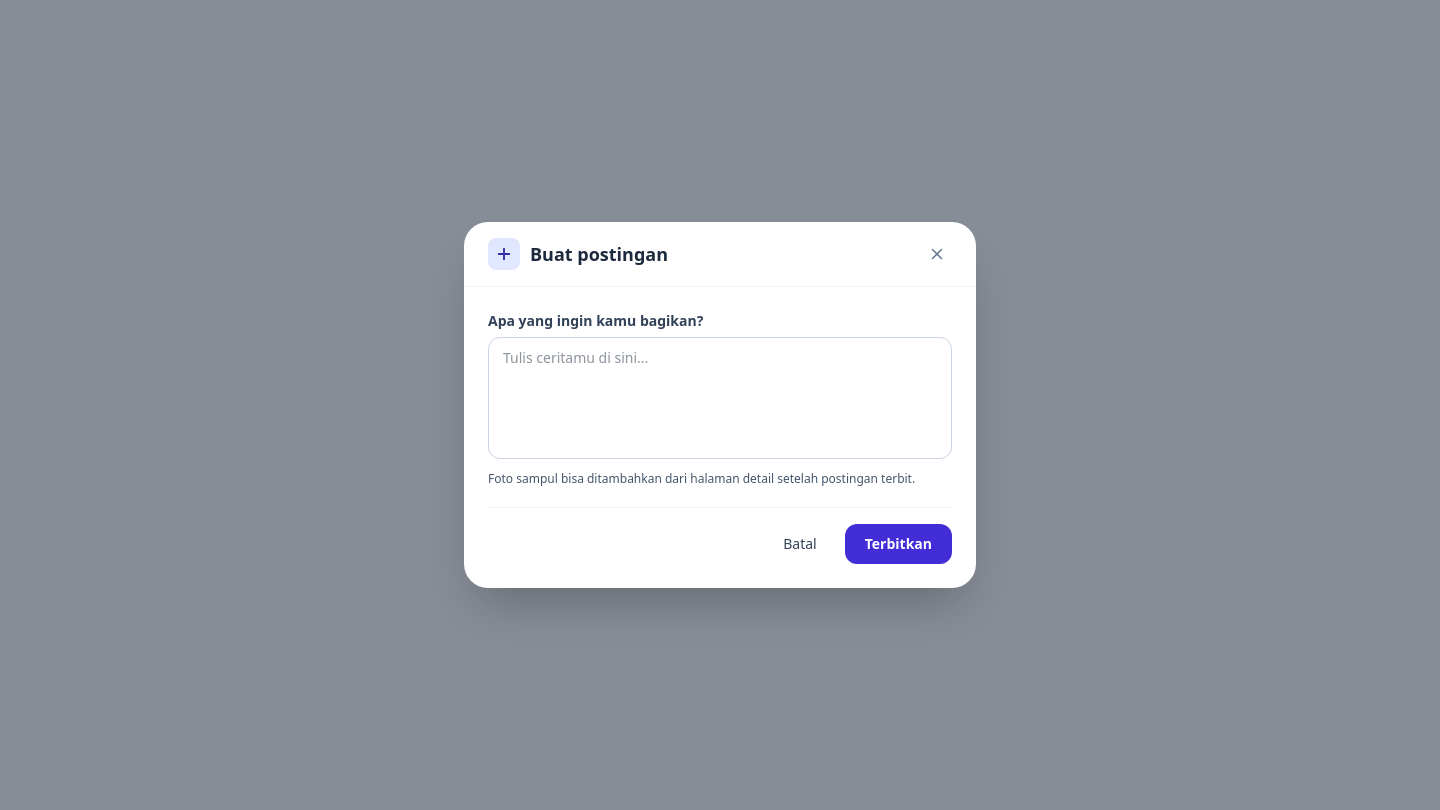
Test: AddModal › should disable the buttons and show progress while publishing
Step 1. Type "Halo" into the text box with test id "add-description-input" → (720, 398), box [488, 337, 952, 459]
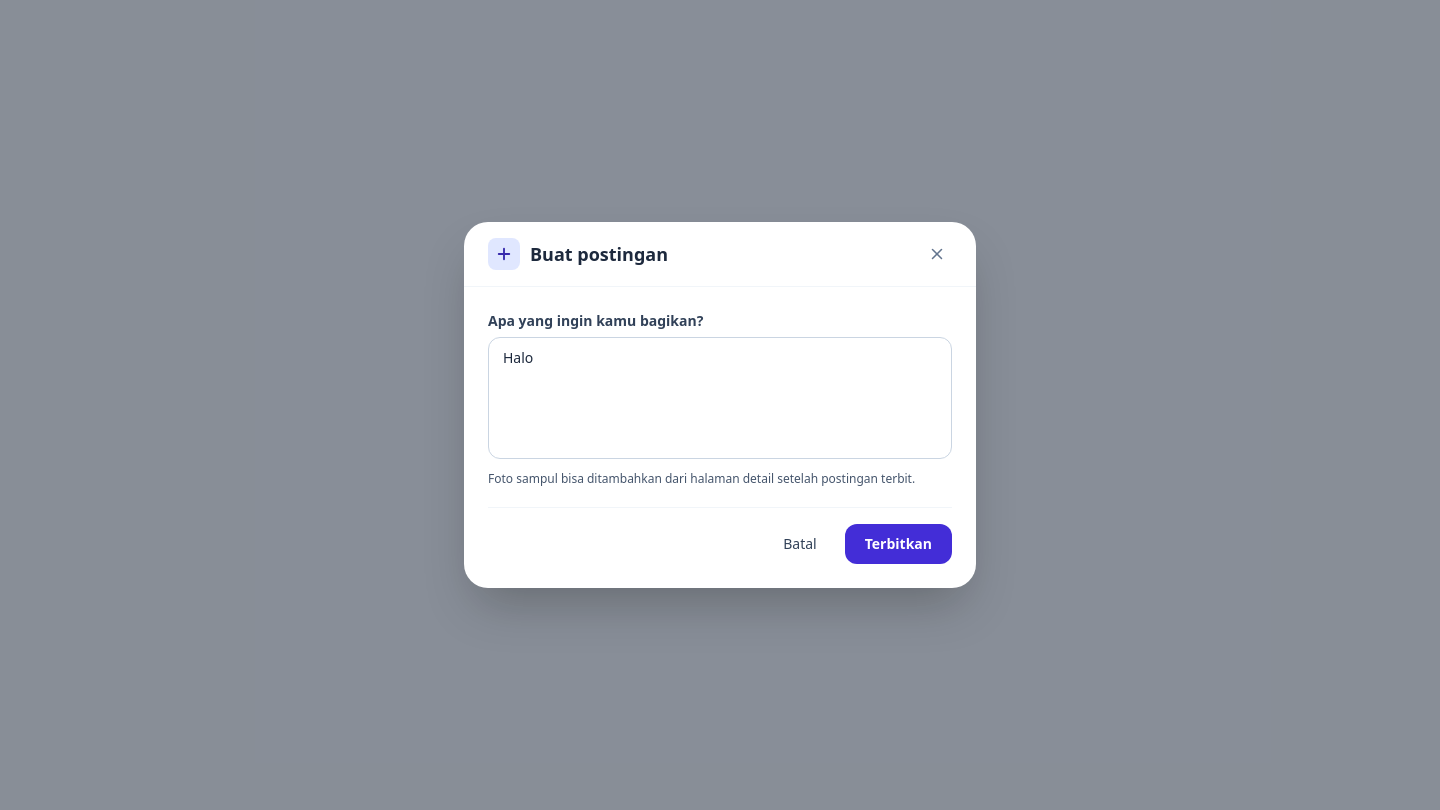
Step 2. Submit the form with test id "add-description-input", box [464, 287, 976, 588]
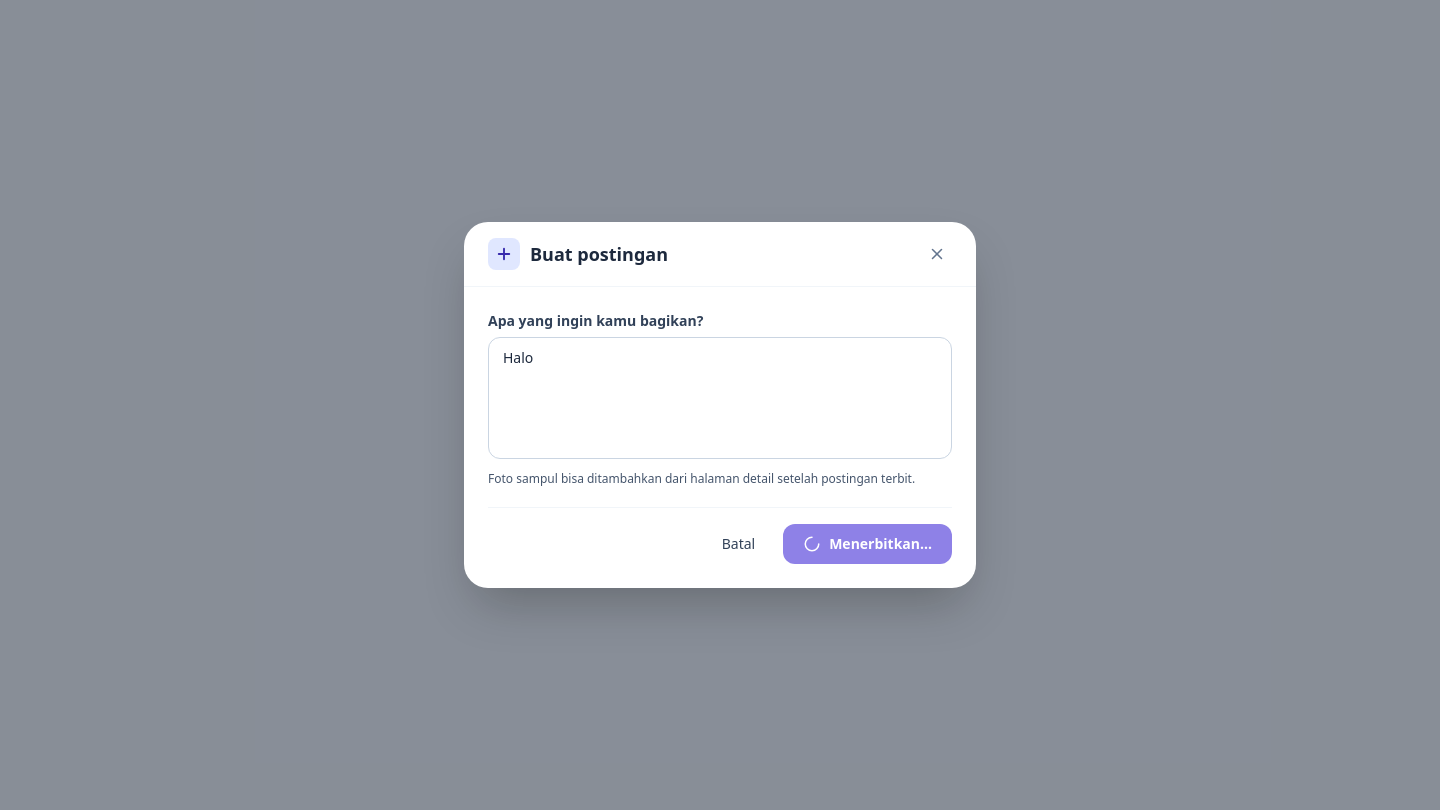
Check: the button with test id "submit-add-modal-btn" is disabled, box [783, 524, 952, 564]
Check: the button with test id "cancel-add-modal-btn" is disabled, box [706, 524, 771, 564]
